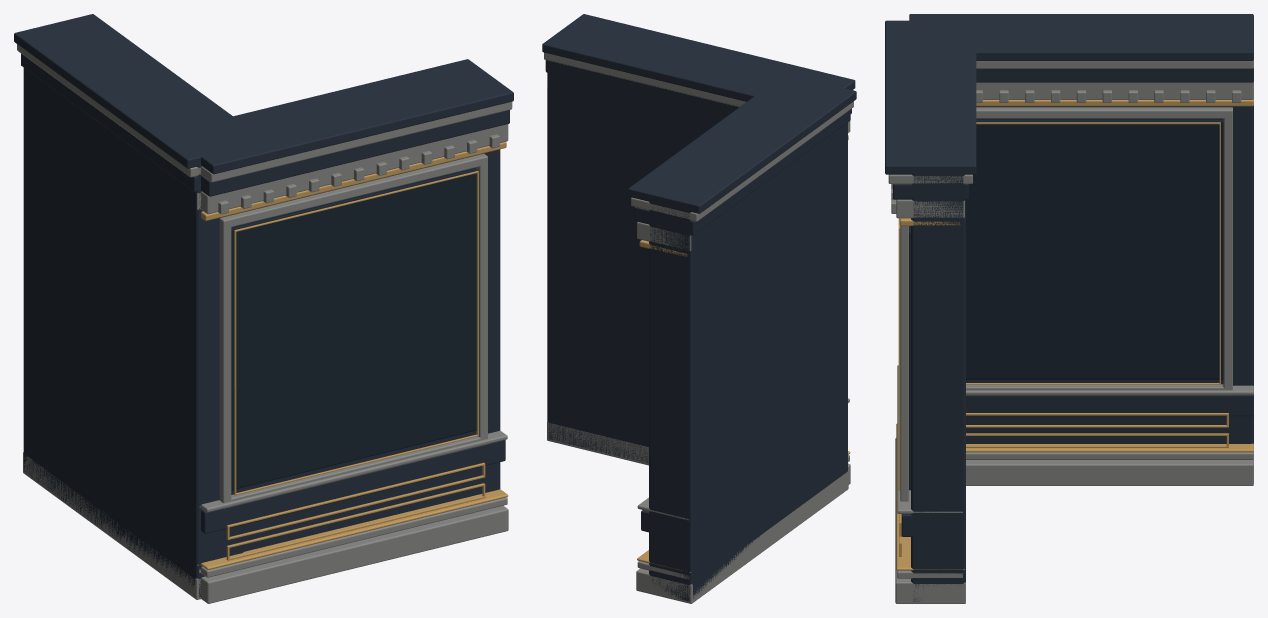
File: DM_Environment_Museum_WallCorner_A.fbx
The picture shows the model from 3 angles, left to right: view 1: azimuth 30°, elevation 25°; view 2: azimuth 150°, elevation 25°; view 3: azimuth 270°, elevation 25°; orthographic projection. The views are drawn at different scales.
Visible parts, largest first — view 1: DM_Environment_Museum_WallCorner_A_Delivery_Opaque; view 2: DM_Environment_Museum_WallCorner_A_Delivery_Opaque; view 3: DM_Environment_Museum_WallCorner_A_Delivery_Opaque.
Boxes of the visible parts, x1=… form: DM_Environment_Museum_WallCorner_A_Delivery_Opaque: x1=14, y1=14, x2=513, y2=603; DM_Environment_Museum_WallCorner_A_Delivery_Opaque: x1=542, y1=14, x2=856, y2=603; DM_Environment_Museum_WallCorner_A_Delivery_Opaque: x1=885, y1=14, x2=1253, y2=603.
Bounding box in the file's own units: 2.09 × 2.81 × 2.14.
